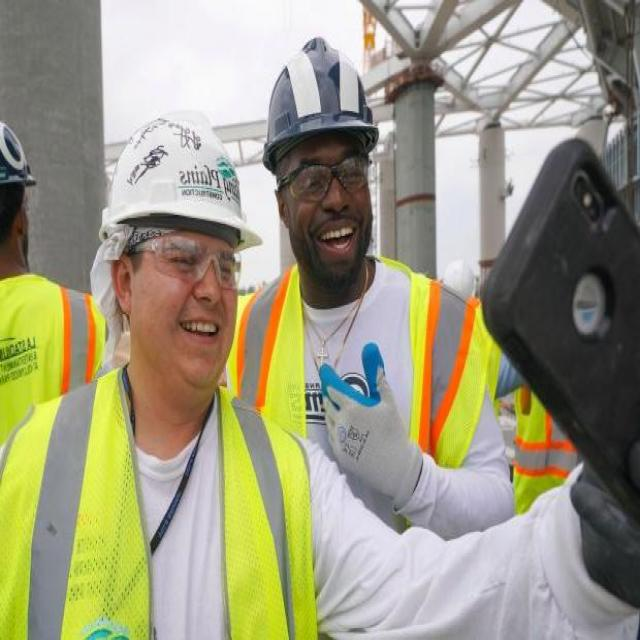Reflective-Jacket: (1, 368, 321, 637), (235, 262, 492, 479)
Safety-Helmet: (97, 102, 261, 260), (257, 31, 385, 172), (0, 112, 39, 214)
